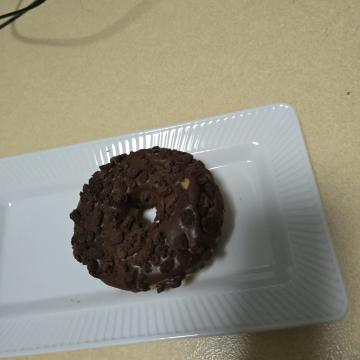doughnut: (136, 122, 305, 305)
